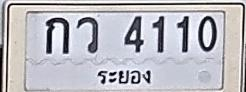0: (198, 15, 216, 52)
1: (152, 15, 164, 53), (176, 15, 188, 53)
4: (124, 15, 143, 52)
A01: (45, 17, 70, 55)
A37: (76, 16, 99, 54)
RYG: (92, 64, 155, 89)
